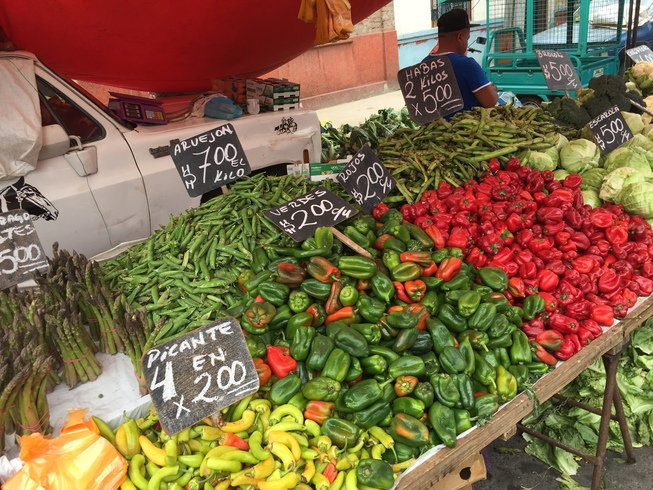precio: (133, 322, 276, 432), (262, 181, 369, 256), (161, 118, 257, 200), (388, 58, 476, 131), (1, 208, 71, 293), (337, 152, 402, 215), (583, 100, 642, 155), (535, 44, 586, 99), (621, 39, 653, 72)
